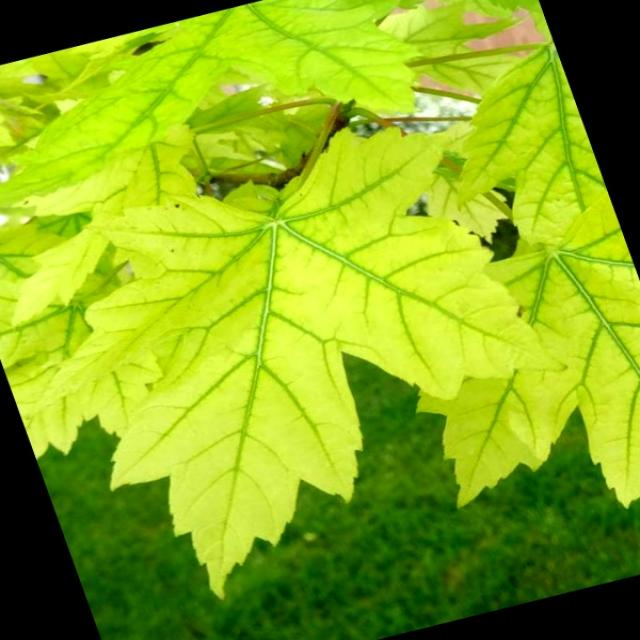Chlorosis: (13, 26, 640, 559)
